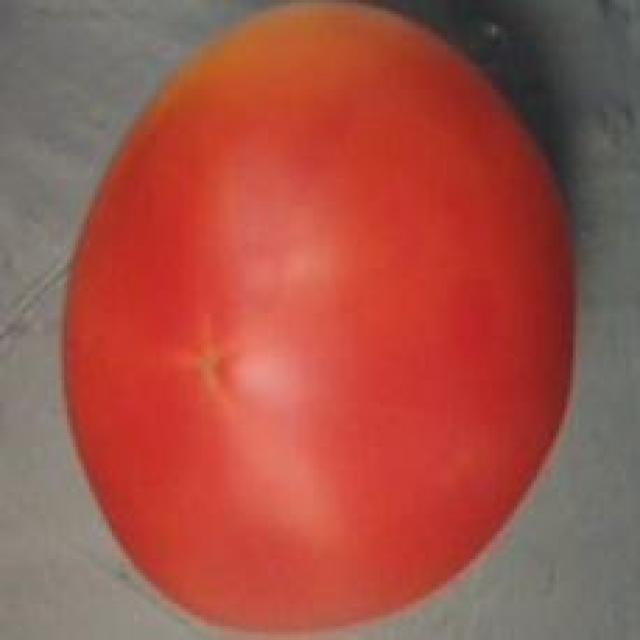ripe tomato: (59, 0, 581, 640)
